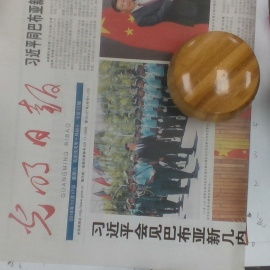chess: (167, 32, 262, 120)
